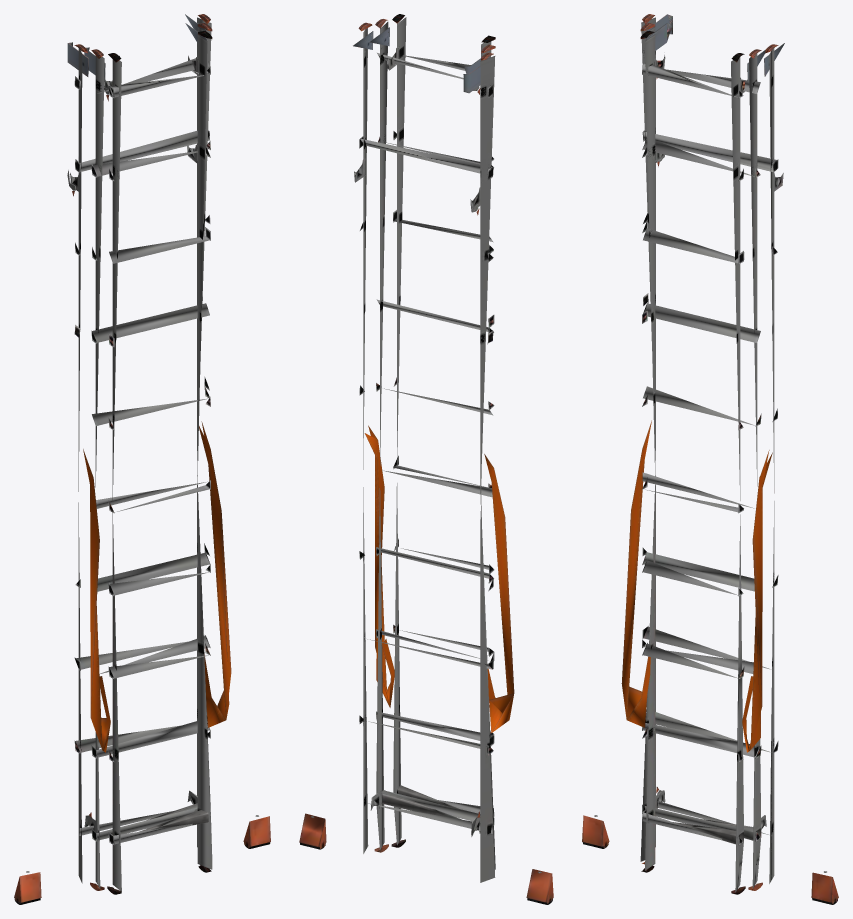
Rendered from g_ladder.glb.
3 views of the same model, side by side, from view 1: azimuth 30°, elevation 25°; view 2: azimuth 150°, elevation 25°; view 3: azimuth 330°, elevation 25° (orthographic).
Parts seen in each view (by area): view 1: ladder_section_01; view 2: ladder_section_01; view 3: ladder_section_01.
Part boxes in pixels (x1,y1,x2,y2): ladder_section_01: [14, 14, 270, 904]; ladder_section_01: [299, 14, 553, 904]; ladder_section_01: [582, 14, 838, 904].
Bounding box in the file's own units: 0.6616 × 2.13 × 0.177.
1 material, 1 textured.
